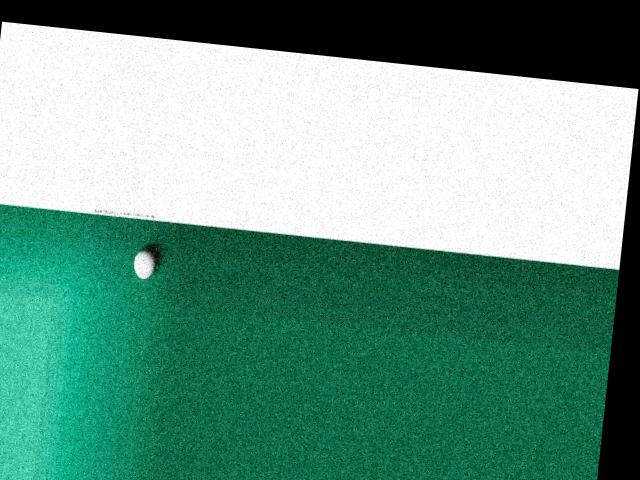egg: (131, 248, 155, 279)
